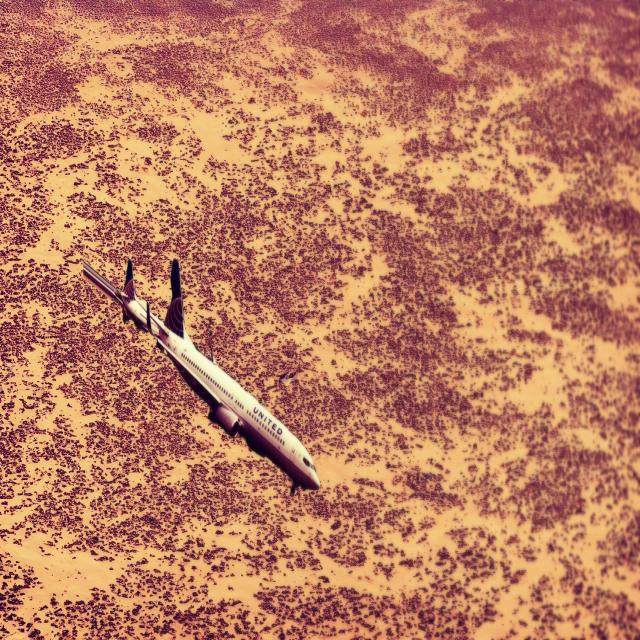airplane: (82, 256, 321, 491)
